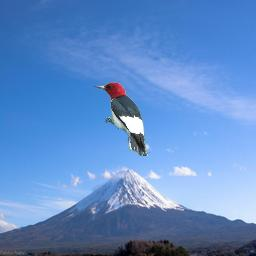Woodpecker: (93, 82, 150, 156)
